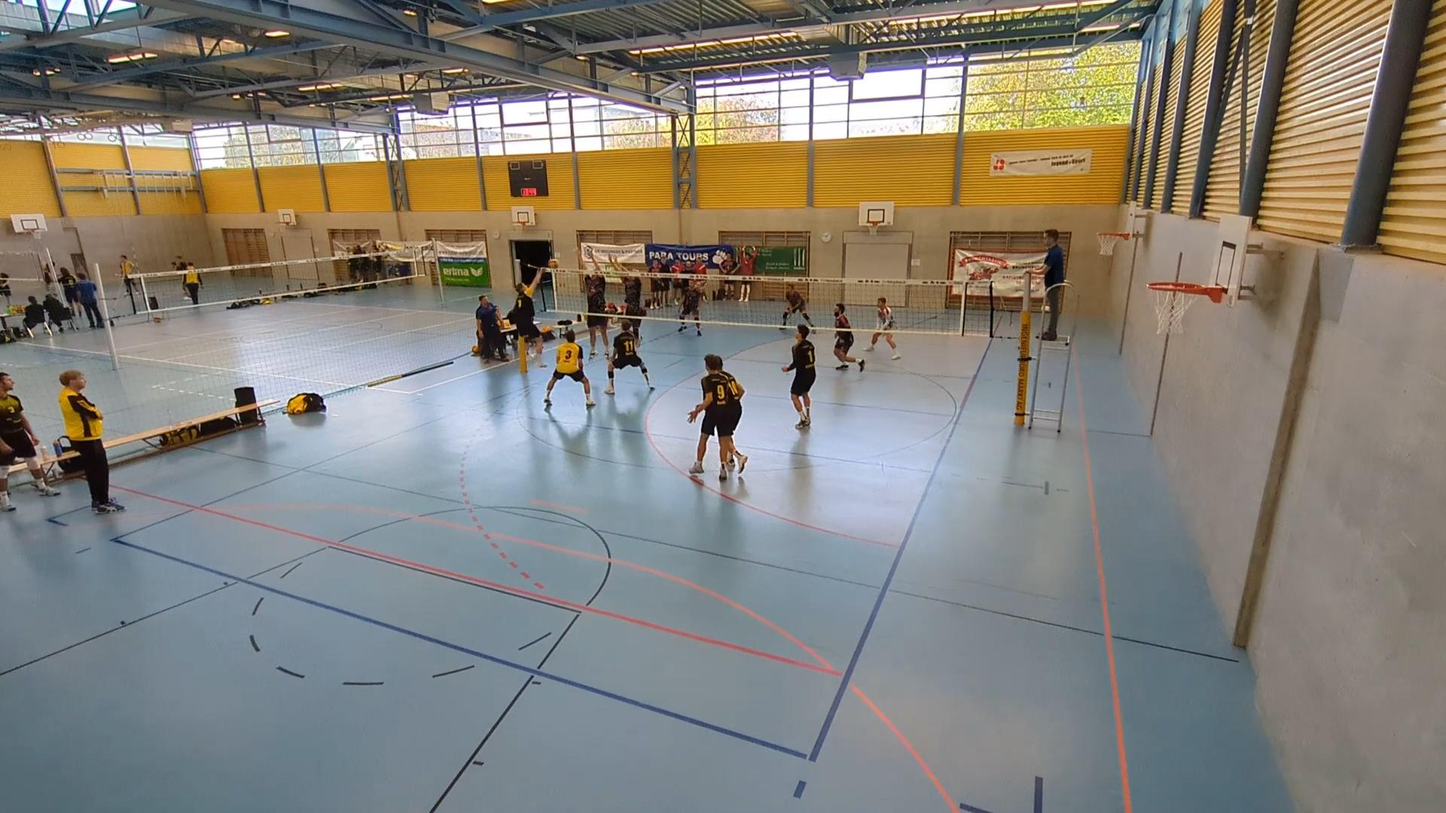attacco: (510, 260, 548, 370)
muro: (567, 239, 615, 365), (606, 243, 644, 348)
